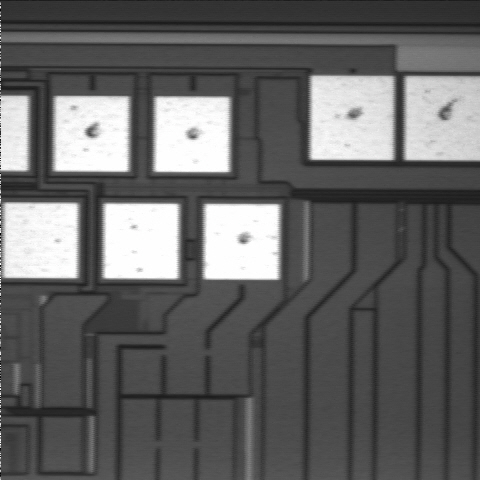pad: (310, 76, 393, 160), (103, 203, 179, 279), (204, 204, 280, 280), (54, 96, 129, 172), (154, 97, 230, 172), (3, 203, 78, 278)
